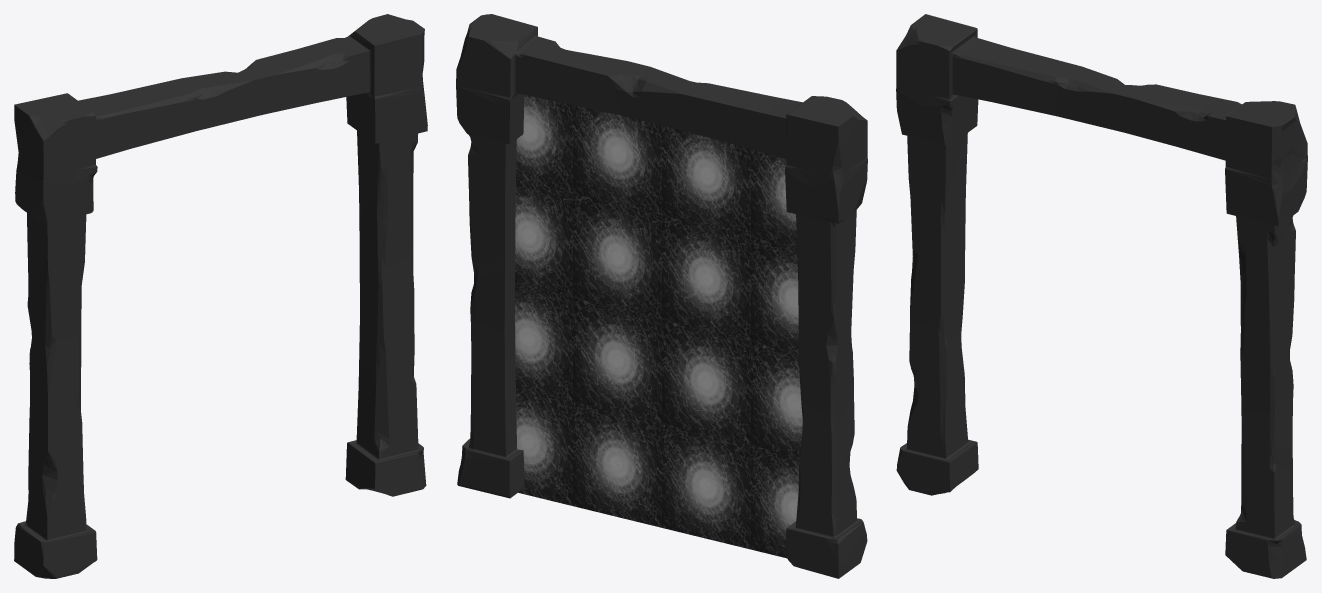
File: portal.glb
The picture shows the model from 3 angles, left to right: view 1: azimuth 30°, elevation 25°; view 2: azimuth 150°, elevation 25°; view 3: azimuth 330°, elevation 25°; orthographic projection.
Visible parts, largest first — view 1: Portal_06_B; view 2: PortalCore, Portal_06_B; view 3: Portal_06_B.
Part boxes in pixels (box(x1,y1,x2,y2)): Portal_06_B: box(14, 14, 427, 578); PortalCore: box(515, 95, 802, 558); Portal_06_B: box(456, 14, 867, 578); Portal_06_B: box(896, 14, 1307, 578).
Size of the model in its own units: 6.46 by 7.39 by 0.8514.
2 materials, 2 textured.
